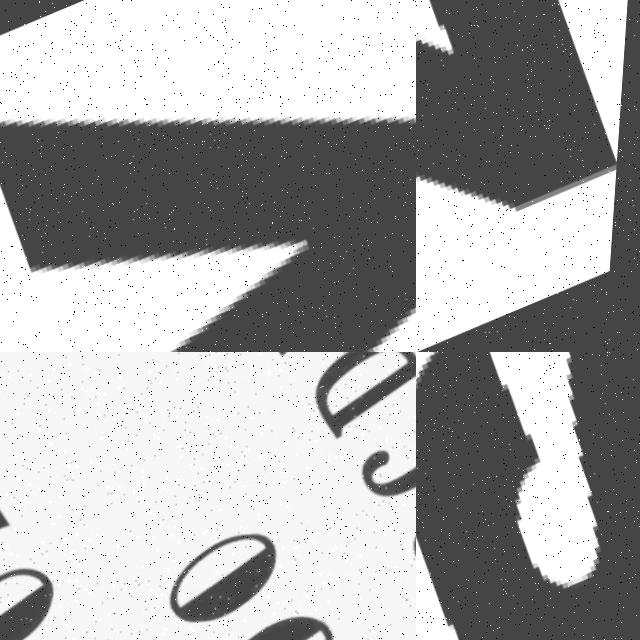0: (100, 494, 333, 640)
6: (0, 527, 118, 640)
7: (0, 448, 54, 617)
9: (172, 579, 383, 640)
S: (416, 352, 640, 640)
V: (0, 0, 416, 352)
Z: (416, 0, 640, 352)
